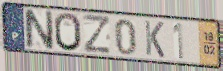0: (113, 17, 139, 56)
1: (173, 22, 185, 61)
K: (143, 19, 166, 60)
N: (22, 8, 55, 51)
O: (53, 11, 83, 53)
Z: (82, 13, 112, 55)
